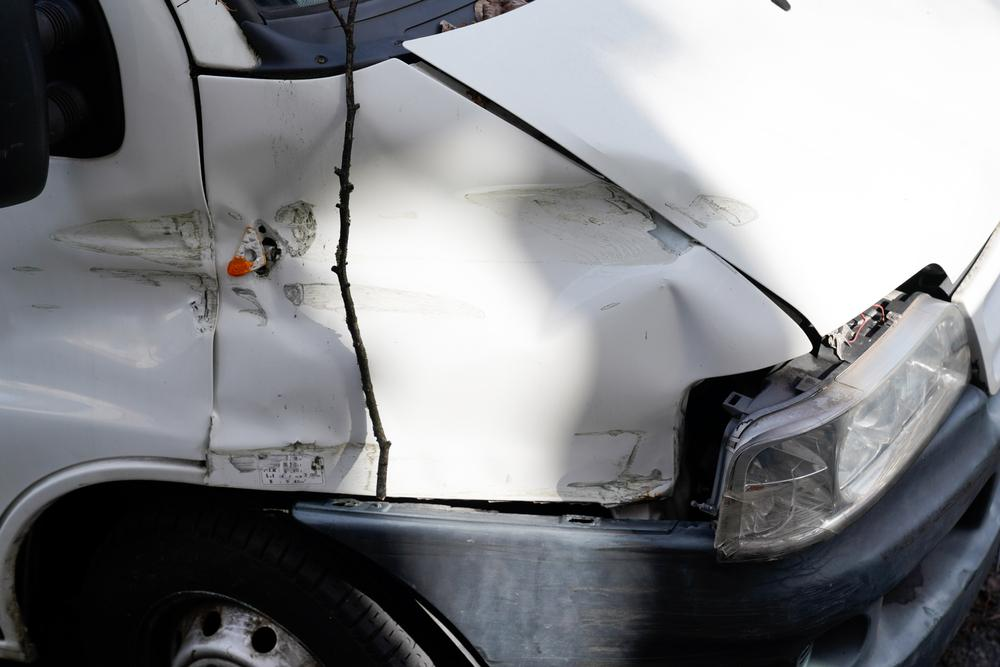dent: (356, 145, 721, 392), (0, 185, 215, 424), (599, 155, 730, 241)
lamp broken: (707, 292, 975, 561)
